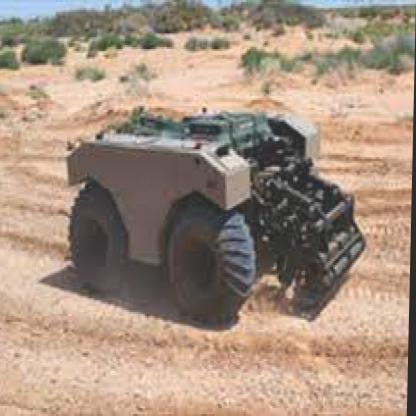UGV: (64, 112, 369, 327)
